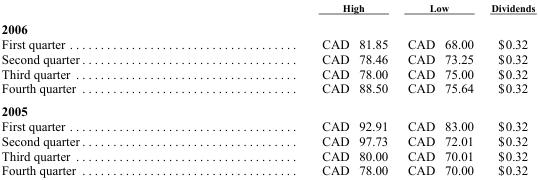table: (0, 1, 534, 177)
table column: (0, 1, 199, 177), (199, 1, 397, 177), (397, 1, 481, 177), (481, 1, 534, 177)
table column header: (0, 1, 534, 17)
table projected row header: (0, 17, 534, 36), (0, 99, 534, 118)
table row: (0, 17, 534, 36), (0, 80, 534, 99), (0, 99, 534, 118), (0, 1, 534, 17), (0, 50, 534, 65), (0, 65, 534, 80), (0, 132, 534, 147), (0, 147, 534, 162), (0, 162, 534, 177), (0, 36, 534, 50), (0, 118, 534, 132)
